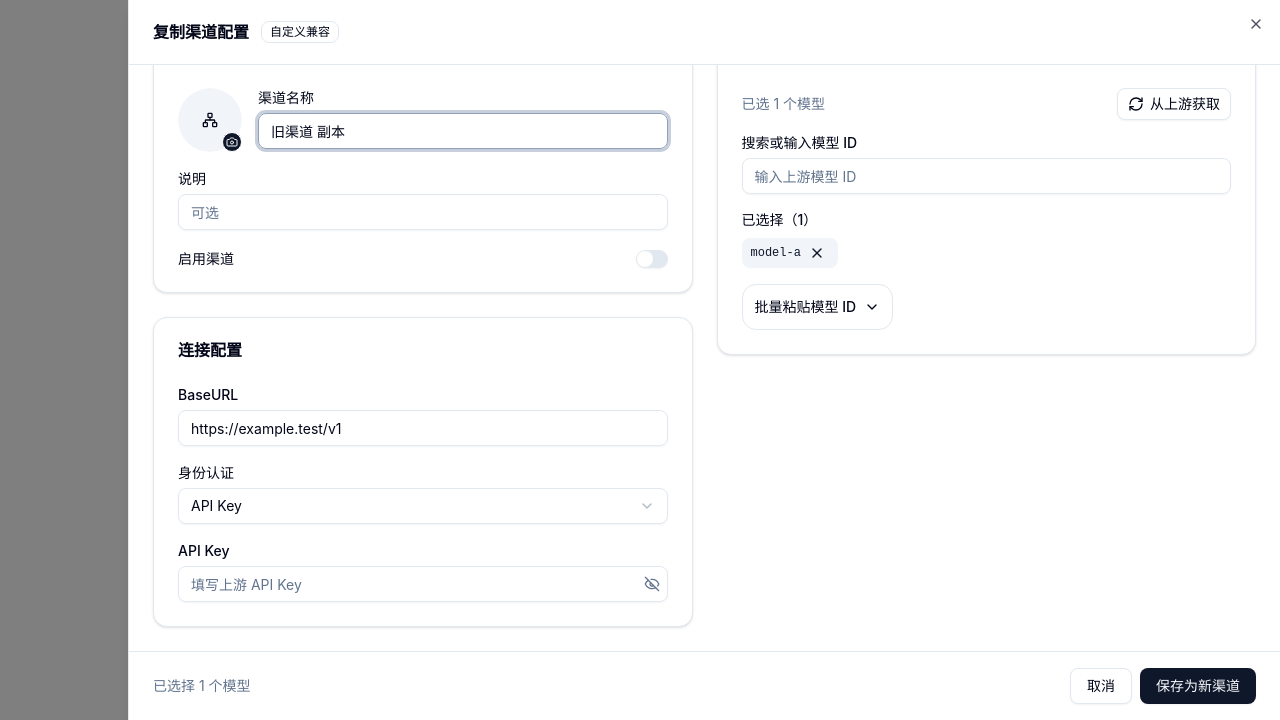
Test: clears a draft key and blocks writes when directory fetching loses admin permission
(page scrolled)
Type "new-fake-key" into the password field labelled "API Key" at (423, 584), box x1=178 y1=566 x2=668 y2=602
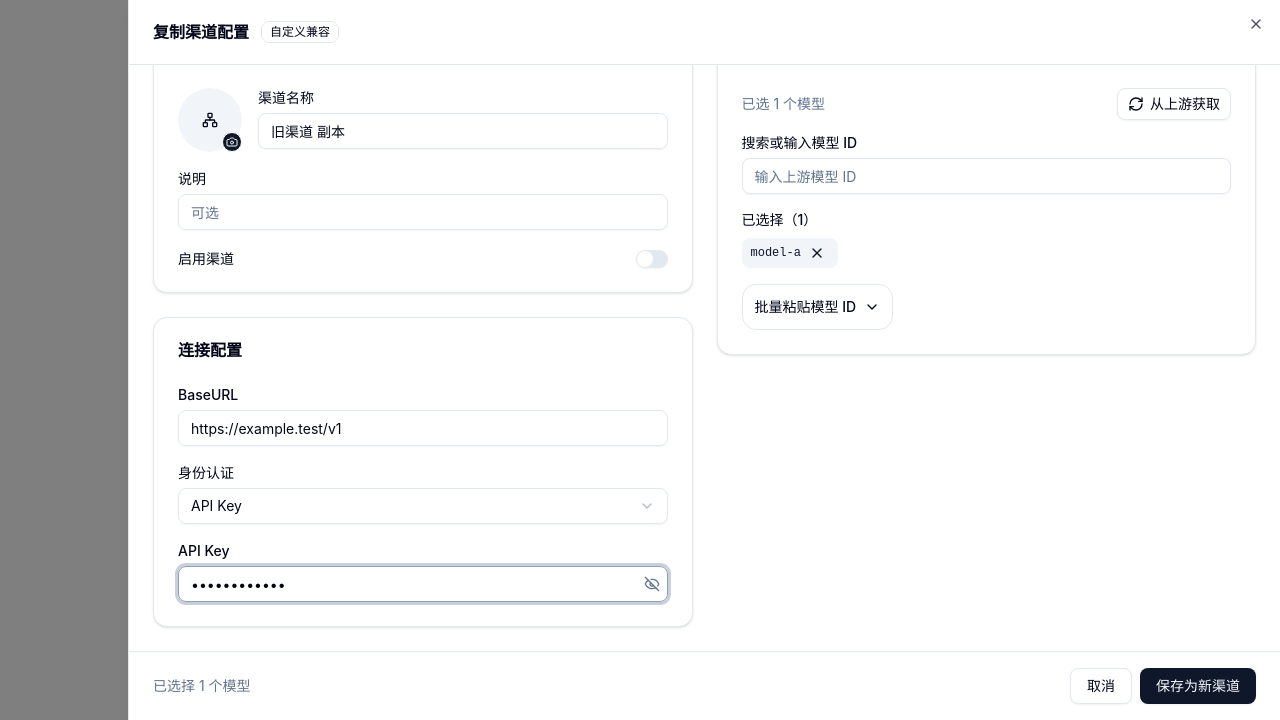
Click the button "从上游获取" at (1174, 104), box x1=1117 y1=88 x2=1231 y2=120
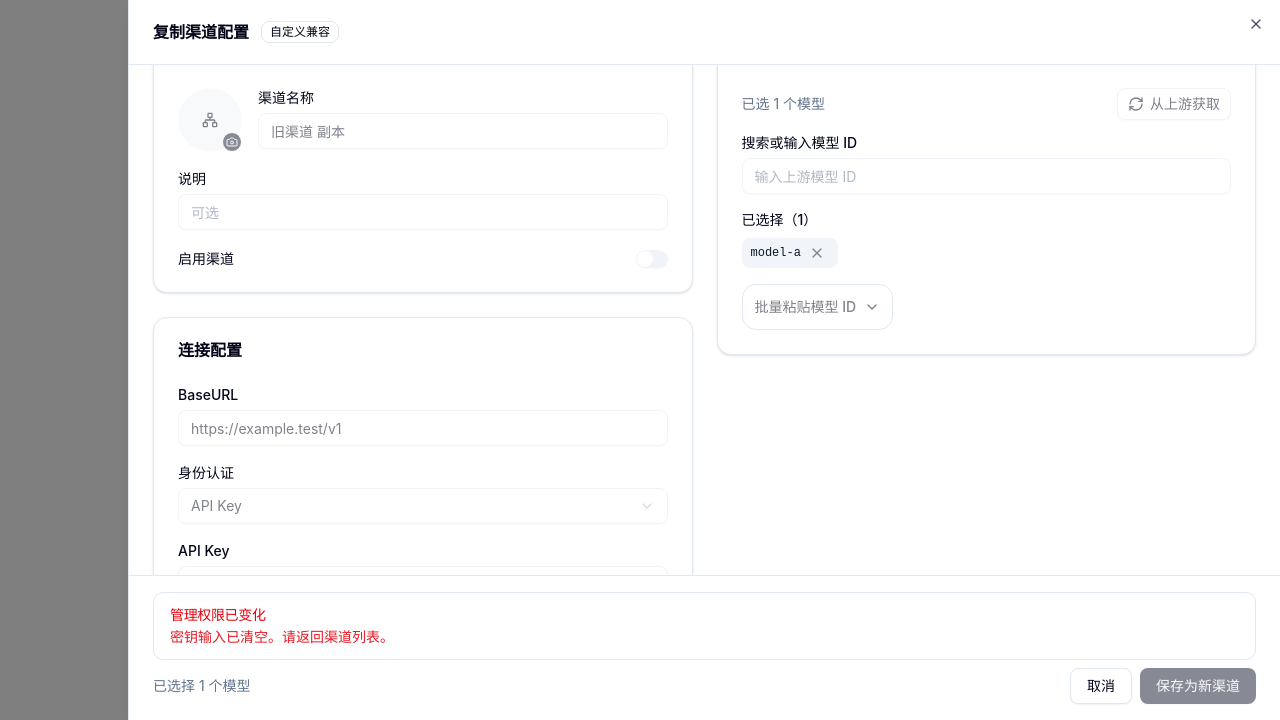
Expected: the text "管理权限已变化" is shown, x1=170 y1=606 x2=266 y2=623
Expected: the button "保存为新渠道" is disabled, x1=1140 y1=668 x2=1256 y2=704
